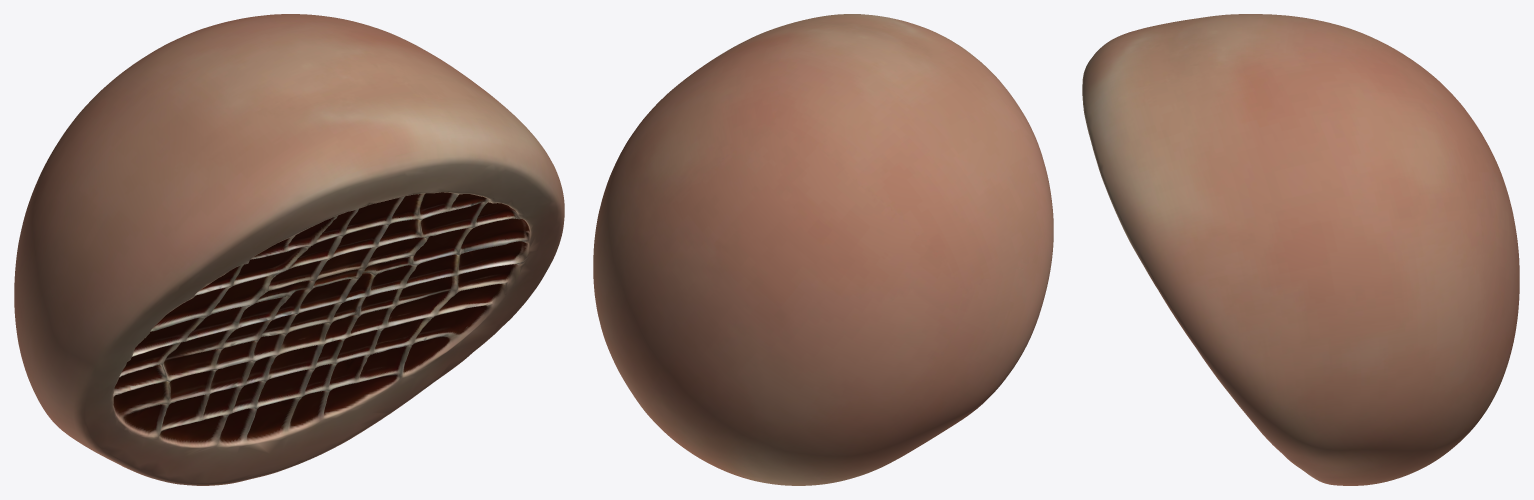
Rendered from vet_v2_organ_cow_reticulum.glb.
3 views of the same model, side by side, from view 1: azimuth 30°, elevation 25°; view 2: azimuth 150°, elevation 25°; view 3: azimuth 270°, elevation 25° (orthographic). The views are drawn at different scales.
Visible parts, largest first — view 1: model; view 2: model; view 3: model.
Part boxes in pixels (box(x1,y1,x2,y2)): model: box(14, 14, 564, 485); model: box(593, 14, 1053, 485); model: box(1082, 14, 1519, 485).
Size of the model in its own units: 1.9 by 1.75 by 1.61.
1 material, 1 textured.
